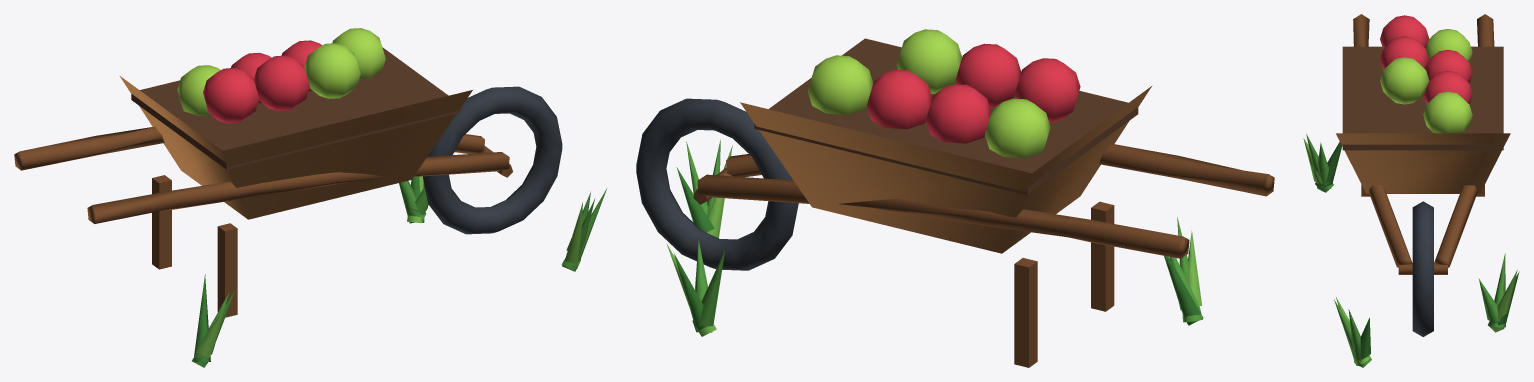
Rendered from Wheelbarrow.glb.
3 views of the same model, side by side, from view 1: azimuth 30°, elevation 25°; view 2: azimuth 150°, elevation 25°; view 3: azimuth 270°, elevation 25° (orthographic). The views are drawn at different scales.
Visible parts, largest first — view 1: Body, Sway; view 2: Body, Sway; view 3: Body, Sway.
Part boxes in pixels (left/top/right/bottom): Body: left=14, top=28, right=562, bottom=317; Sway: left=192, top=176, right=606, bottom=367; Body: left=636, top=29, right=1274, bottom=367; Sway: left=666, top=139, right=1203, bottom=336; Body: left=1336, top=14, right=1510, bottom=336; Sway: left=1303, top=134, right=1519, bottom=367.
Bounding box in the file's own units: 4.01 × 1.94 × 1.75.
2 materials, 2 textured.
